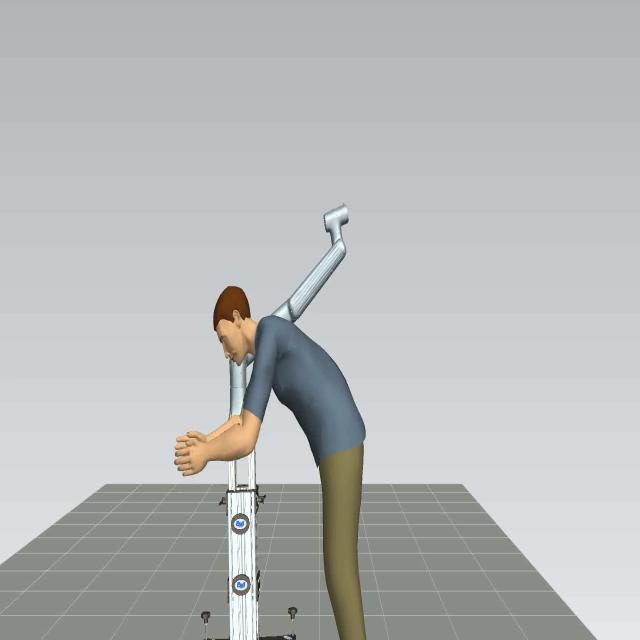human: (170, 274, 368, 638)
robot: (222, 199, 361, 516)
